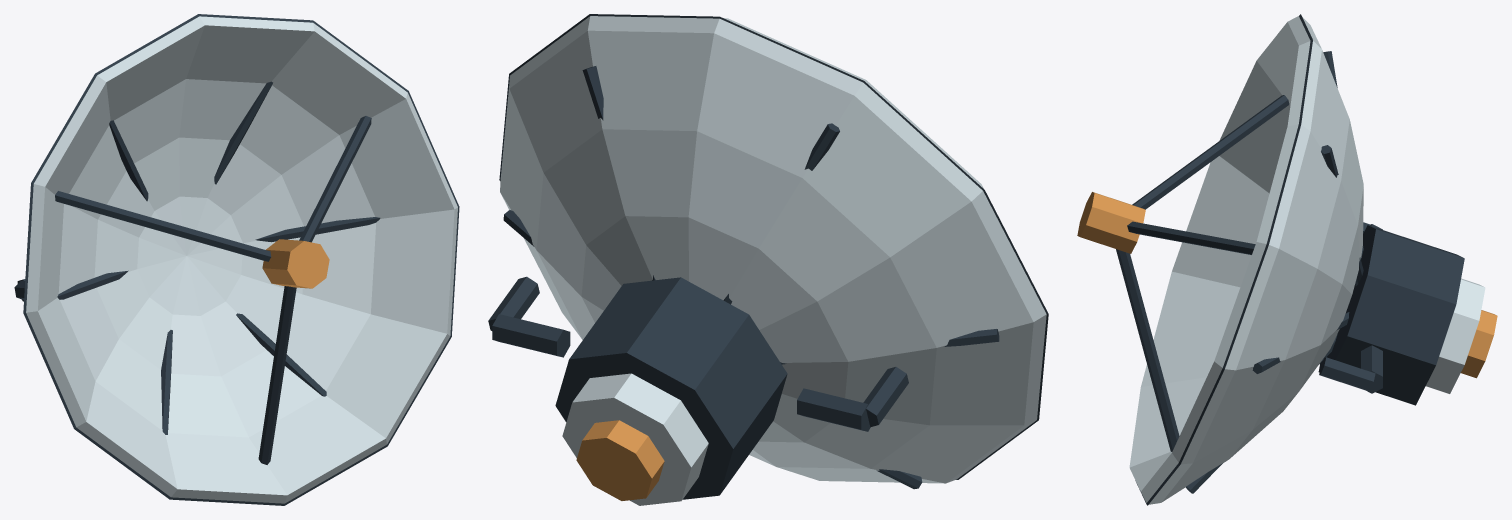
The model's file is communicationarray.fbx.
3 renders of one model, left to right at view 1: azimuth 30°, elevation 25°; view 2: azimuth 150°, elevation 25°; view 3: azimuth 270°, elevation 25°, orthographic. The views are drawn at different scales.
Visible parts, largest first — view 1: Communication Array.001; view 2: Communication Array.001; view 3: Communication Array.001.
Boxes of the visible parts, box(x1,y1,x2,y2) form: Communication Array.001: box(14, 14, 459, 505); Communication Array.001: box(488, 14, 1048, 505); Communication Array.001: box(1077, 14, 1497, 505).
Size of the model in its own units: 247 by 232 by 200.
